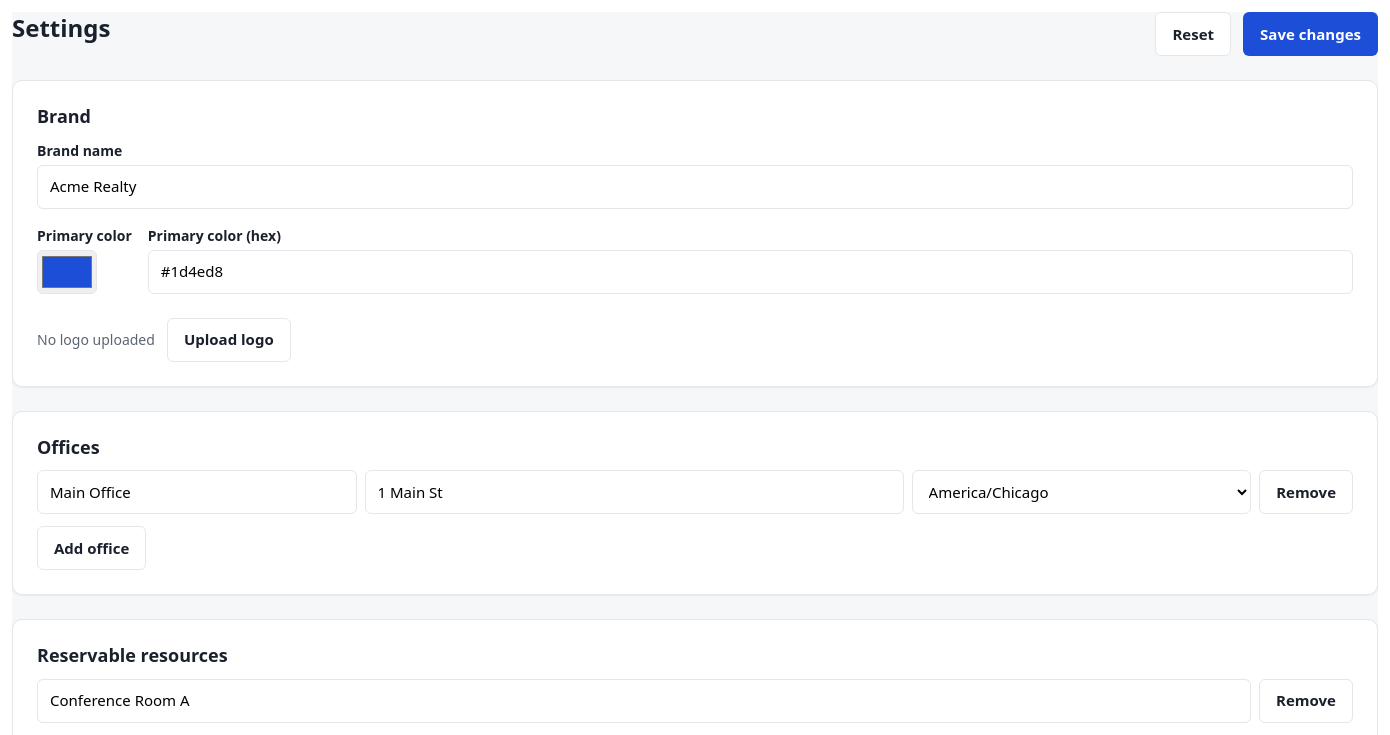
Test: SettingsPage › echoes reservable resource _ids back on save so event references never dangle
Expected: the field named "Resource 1 name" holds "Conference Room A", x1=37 y1=678 x2=1251 y2=722
Click the button "Save changes" at (1311, 34), box x1=1243 y1=12 x2=1378 y2=56
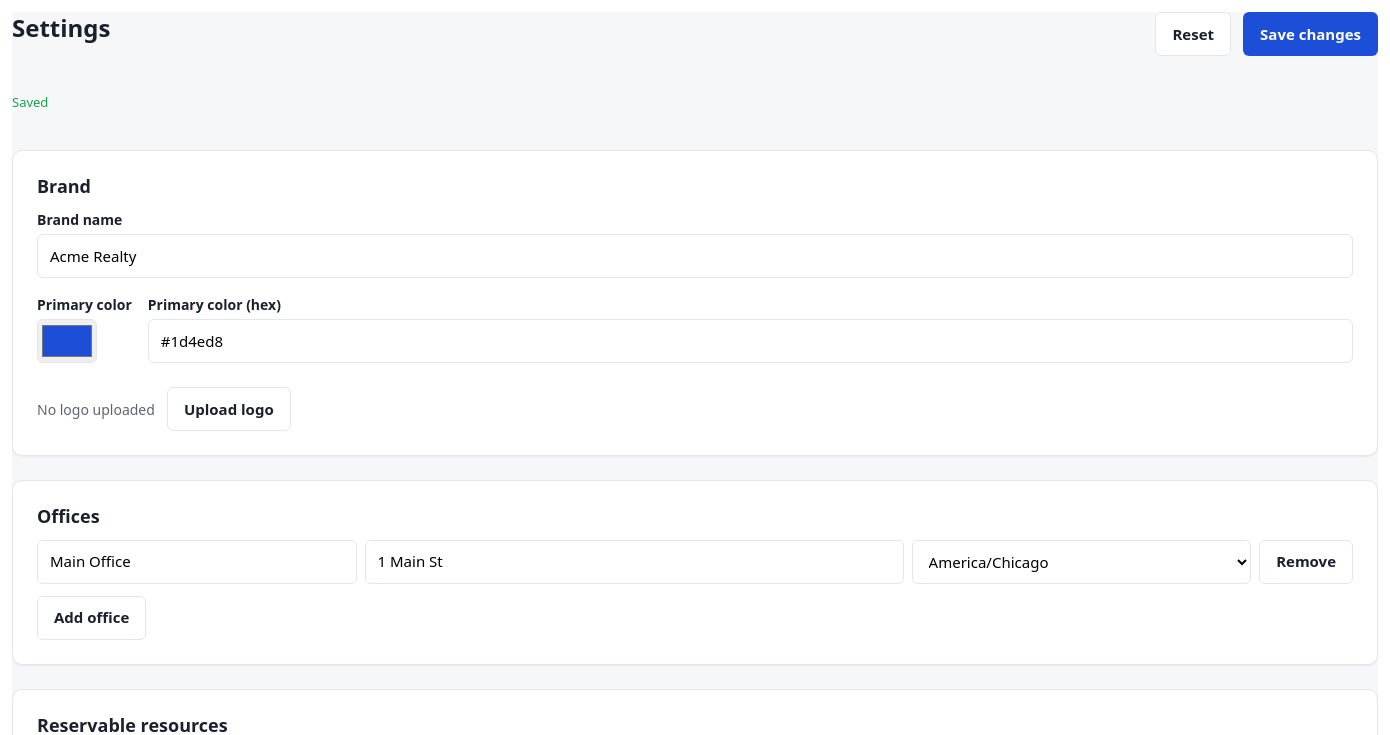
Now the text "Saved" is shown, box x1=12 y1=93 x2=48 y2=111
